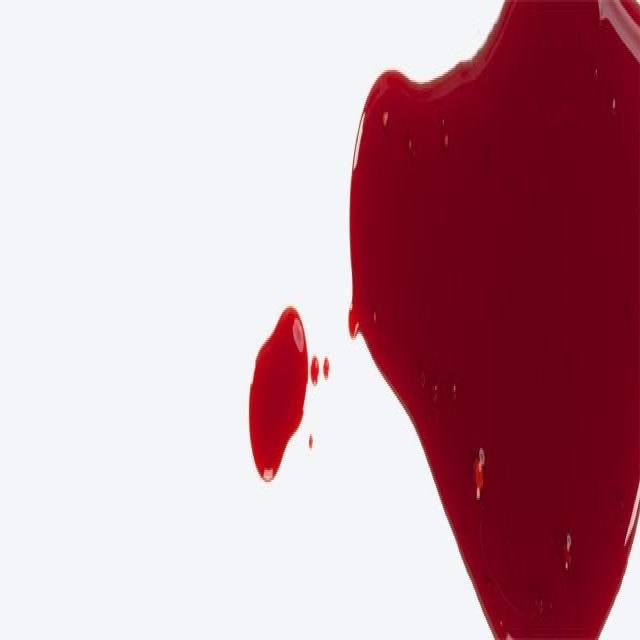flood: (340, 0, 640, 640), (242, 278, 318, 504)
